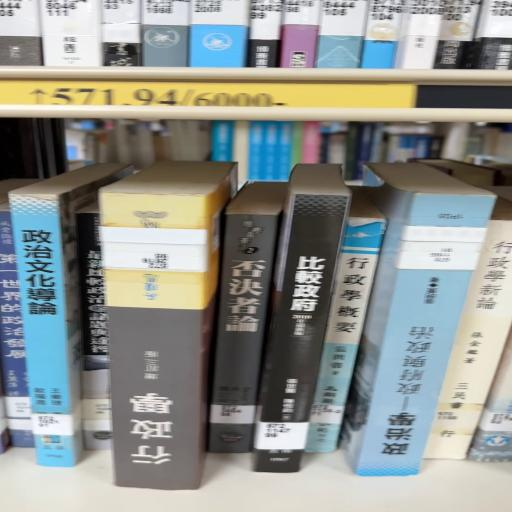reverse: (343, 164, 497, 477), (100, 163, 238, 491)
